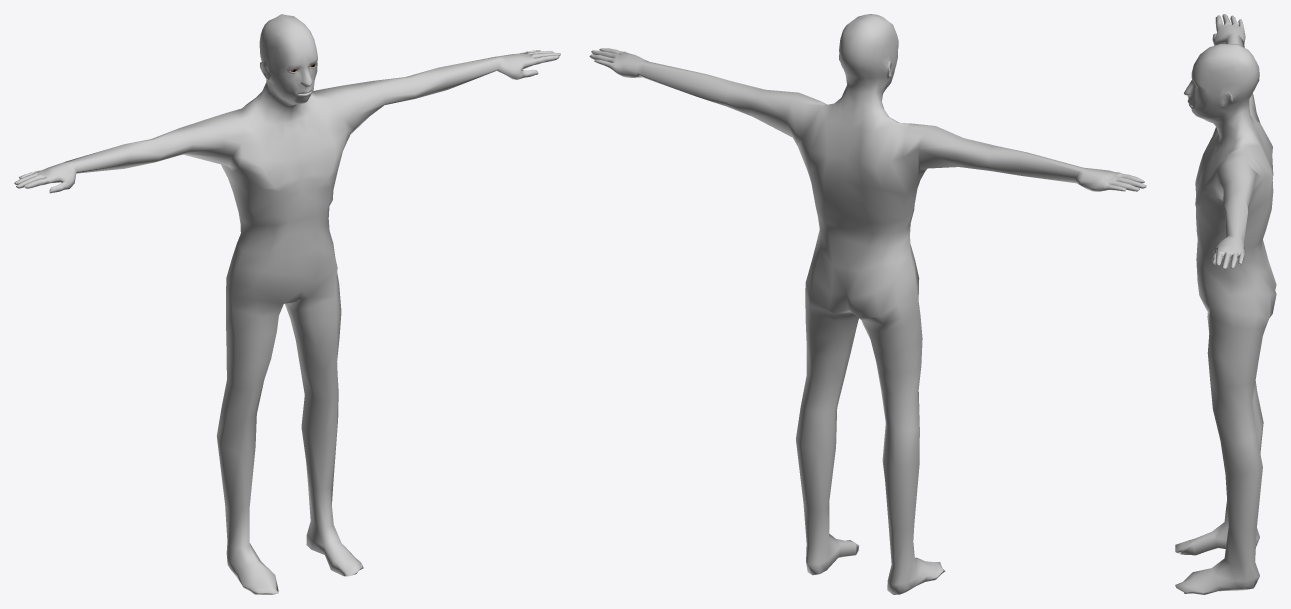
File: civil_Sem_osso.fbx
3 views of the same model, side by side, from view 1: azimuth 30°, elevation 25°; view 2: azimuth 150°, elevation 25°; view 3: azimuth 270°, elevation 25° (orthographic). The views are drawn at different scales.
Parts seen in each view (by area): view 1: male1591Mesh; view 2: male1591Mesh; view 3: male1591Mesh.
Part boxes in pixels (<box>): male1591Mesh: <box>14,14,560,594</box>; male1591Mesh: <box>589,14,1146,594</box>; male1591Mesh: <box>1175,14,1276,594</box>.
Size of the model in its own units: 69.34 by 66.78 by 11.67.
